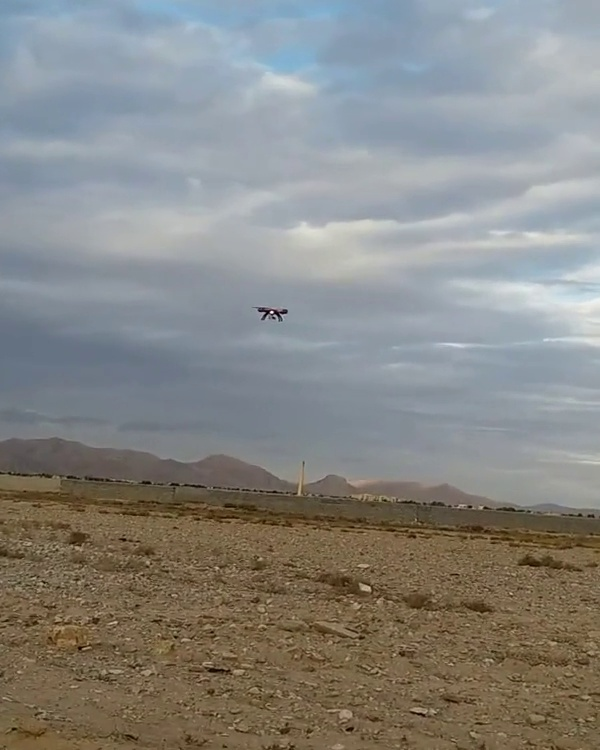drone_other: (247, 299, 292, 327)
